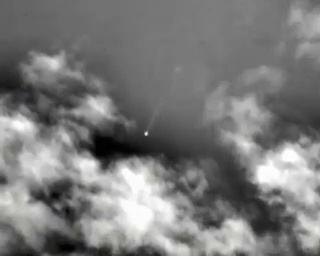AIRPLANE: (142, 128, 151, 139)
